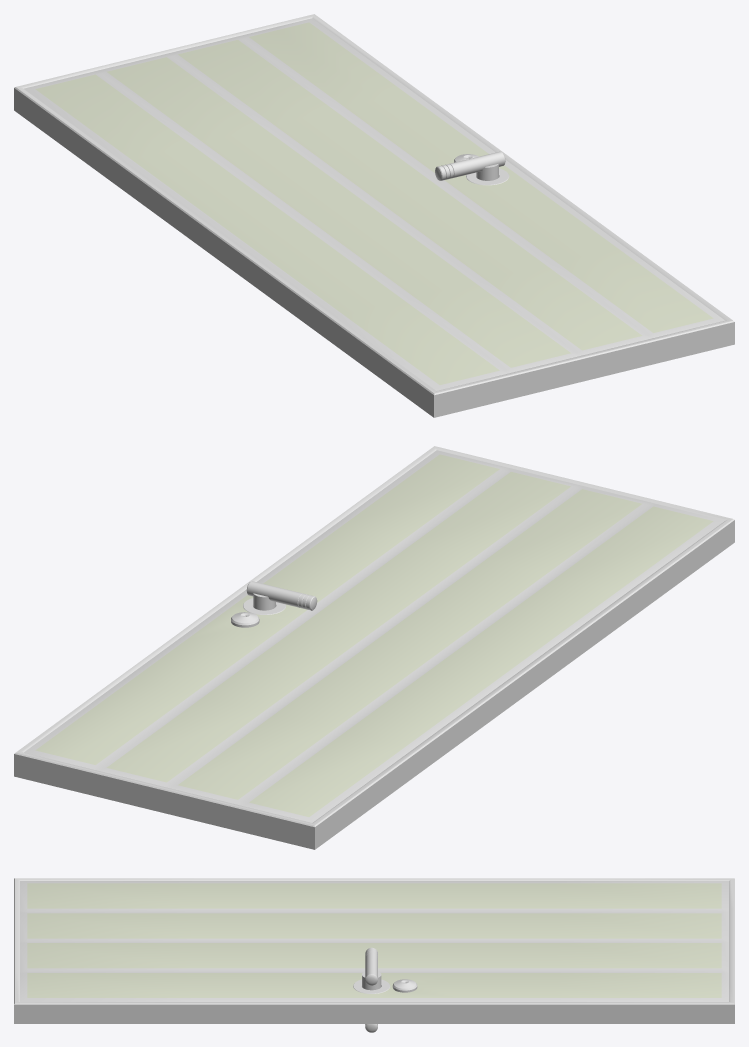
Rendered from door.fbx.
3 views of the same model, one above another, from view 1: azimuth 30°, elevation 25°; view 2: azimuth 150°, elevation 25°; view 3: azimuth 270°, elevation 25° (orthographic). The views are drawn at different scales.
Visible parts, largest first — view 1: Plane; view 2: Plane; view 3: Plane.
Boxes of the visible parts, x1,y1,x2,y2 form: Plane: (14, 14, 734, 417); Plane: (14, 446, 734, 849); Plane: (14, 878, 734, 1032).
Size of the model in its own units: 82.71 by 18.05 by 200.
